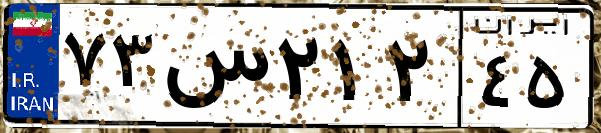1: (330, 28, 385, 110)
2: (270, 28, 330, 110), (385, 28, 445, 110)
3: (110, 28, 158, 98)
4: (475, 38, 525, 113)
5: (525, 38, 570, 115)
7: (57, 26, 110, 100)
س: (158, 20, 270, 120)
